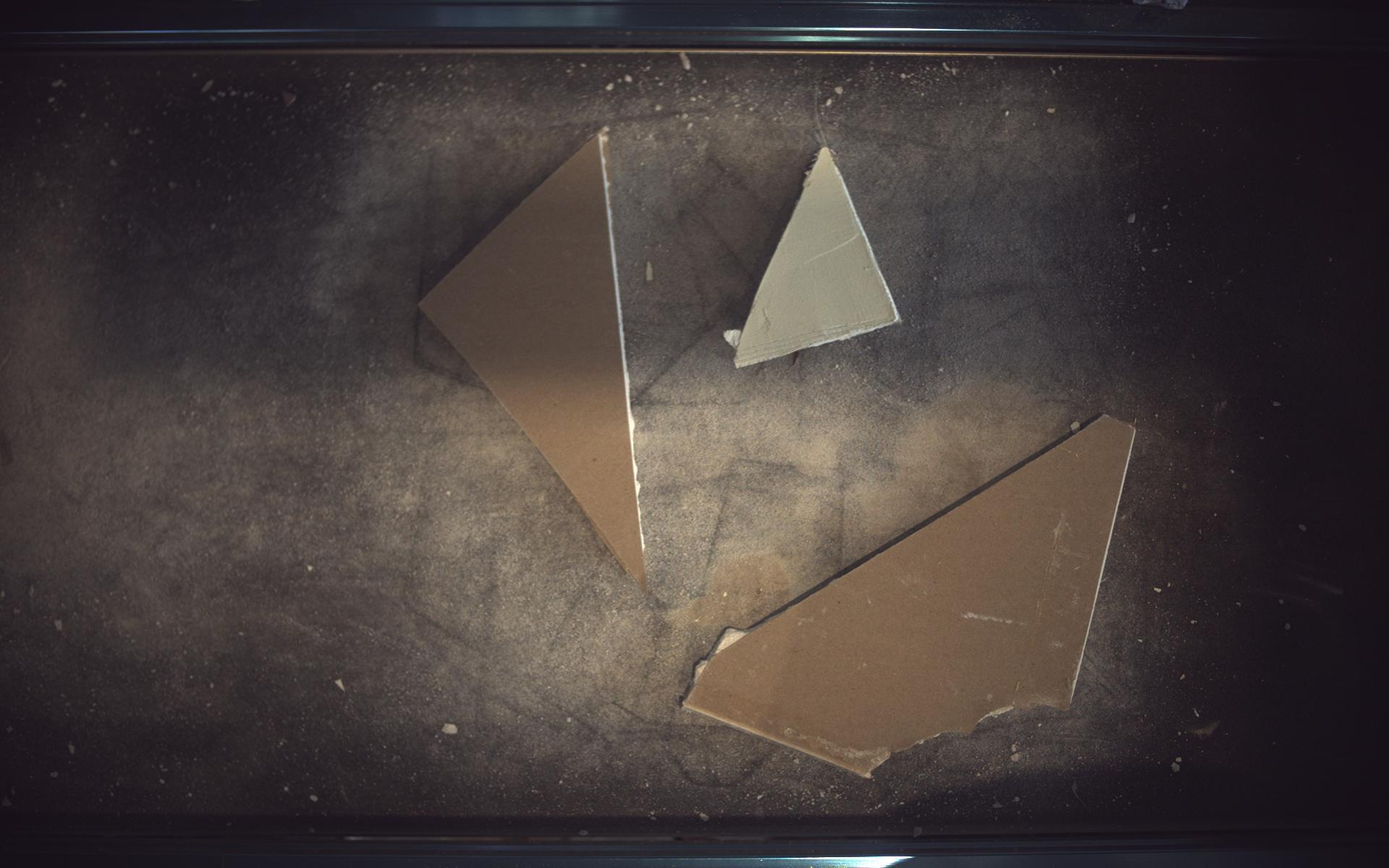gypsum_board: (685, 415, 1138, 778), (420, 127, 647, 591), (725, 146, 901, 367)
